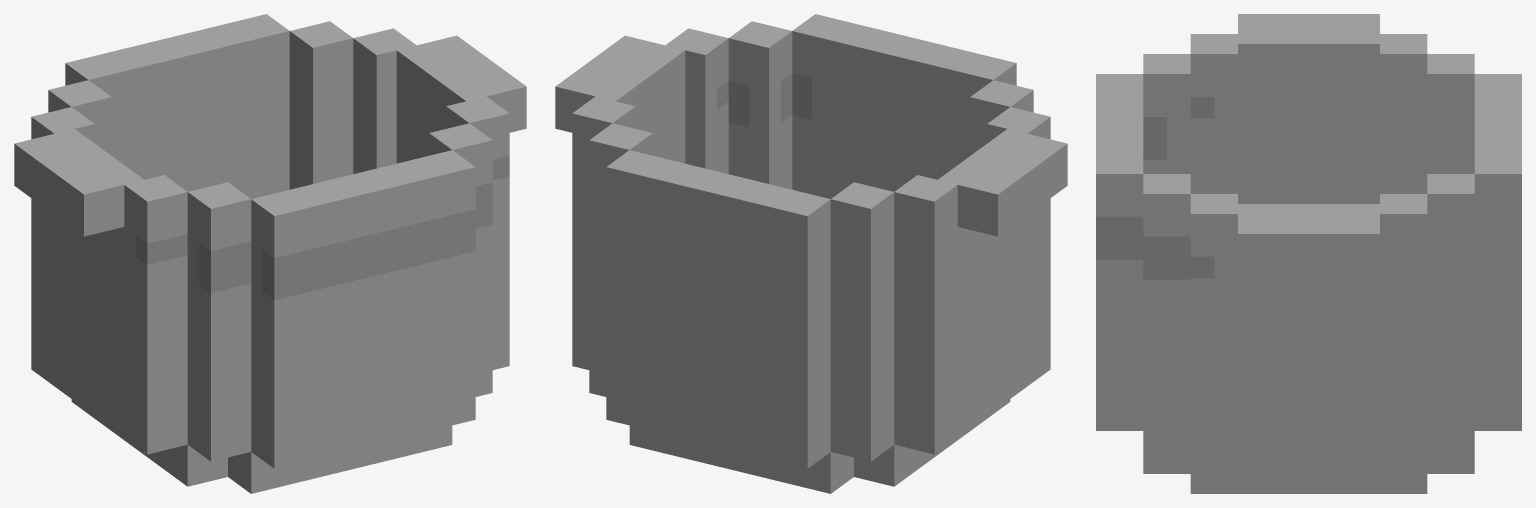
The model's file is Pot.fbx.
3 renders of one model, left to right at view 1: azimuth 30°, elevation 25°; view 2: azimuth 150°, elevation 25°; view 3: azimuth 270°, elevation 25°, orthographic.
Visible parts, largest first — view 1: pot; view 2: pot; view 3: pot.
Boxes of the visible parts, box(x1,y1,x2,y2) form: pot: box(14, 14, 526, 493); pot: box(555, 14, 1067, 493); pot: box(1096, 14, 1521, 493).
Bounding box in the file's own units: 220 × 140 × 180.
Materials: 1 (1 with a texture image).
